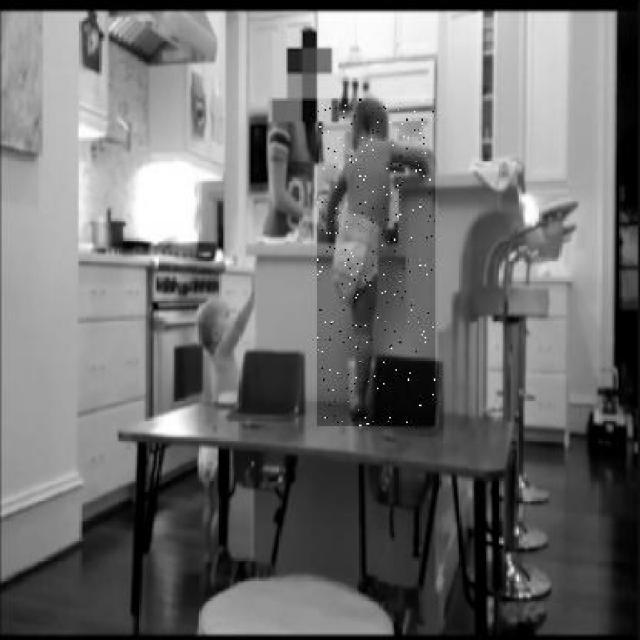child: (317, 99, 435, 427)
